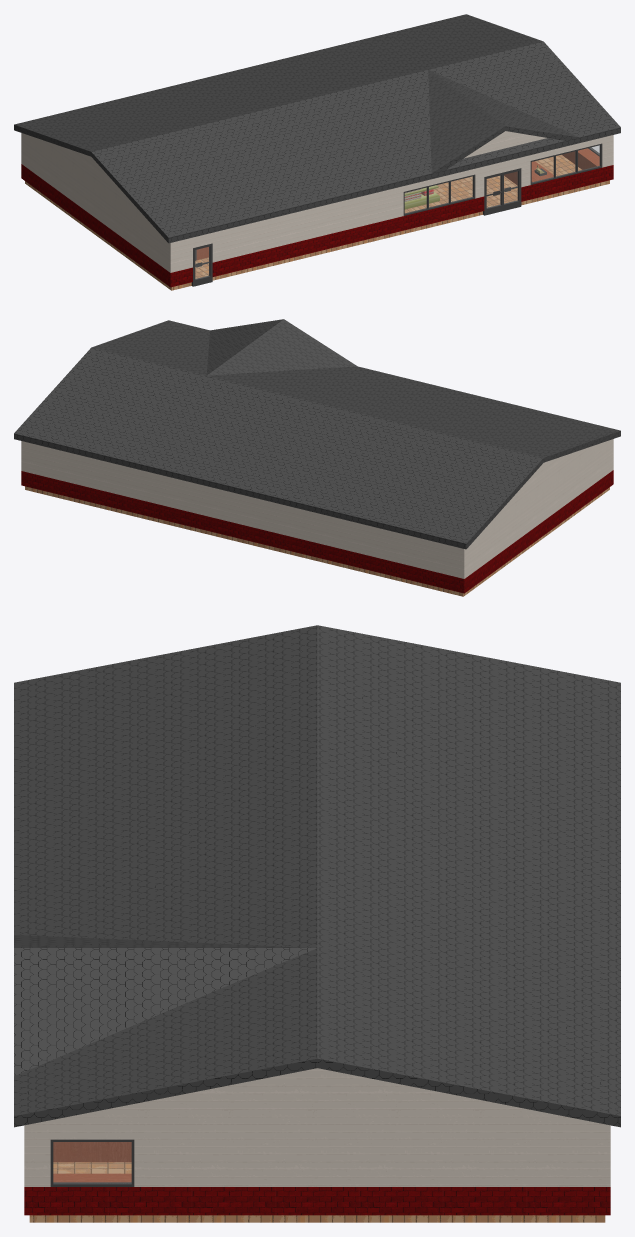
File: gas_station_no_pumps.glb
The picture shows the model from 3 angles, top to bottom: view 1: azimuth 30°, elevation 25°; view 2: azimuth 150°, elevation 25°; view 3: azimuth 270°, elevation 25°; orthographic projection. The views are drawn at different scales.
Visible parts, largest first — view 1: gs; view 2: gs; view 3: gs.
Boxes of the visible parts, x1,y1,x2,y2 form: gs: (14, 14, 620, 290); gs: (14, 319, 620, 596); gs: (14, 625, 620, 1222).
Size of the model in its own units: 31.36 by 5.76 by 18.56.
Materials: 48 (48 with a texture image).
